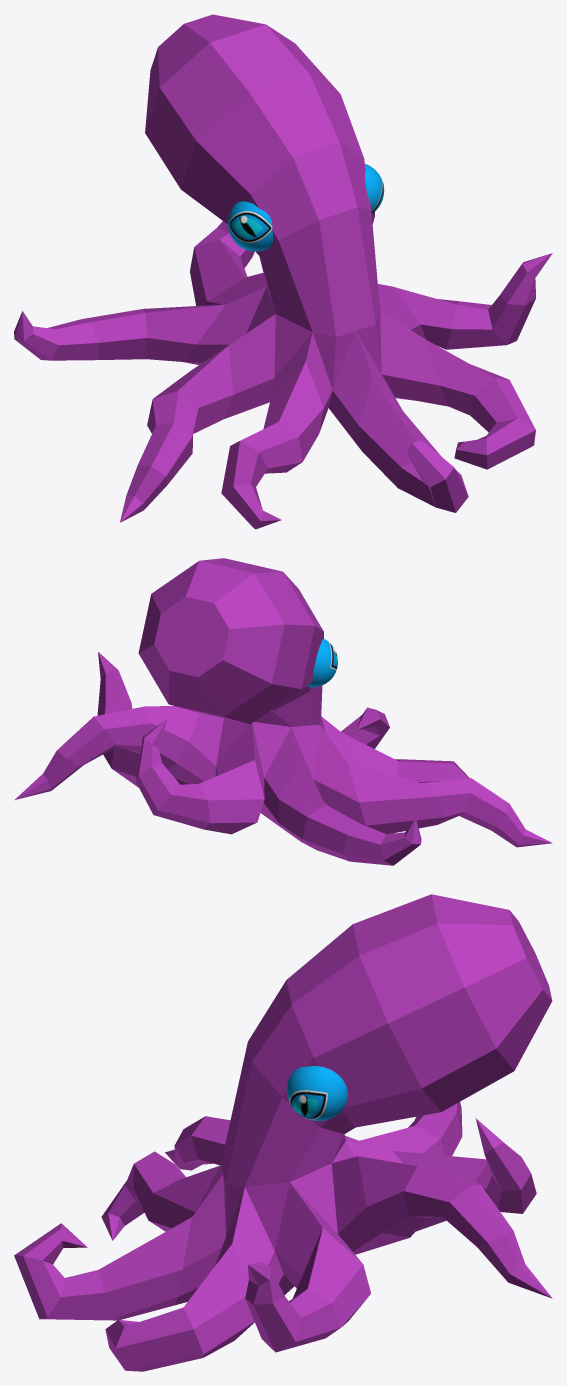
Rendered from Octopus_eyes.fbx.
3 views of the same model, one above another, from view 1: azimuth 30°, elevation 25°; view 2: azimuth 150°, elevation 25°; view 3: azimuth 270°, elevation 25° (orthographic). The views are drawn at different scales.
Visible parts, largest first — view 1: node_id3, node_id41, node_id33; view 2: node_id3, node_id41; view 3: node_id3, node_id33.
Part boxes in pixels (x1=…): node_id3: x1=14, y1=14, x2=552, y2=529; node_id41: x1=227, y1=201, x2=273, y2=251; node_id33: x1=365, y1=164, x2=384, y2=213; node_id3: x1=14, y1=558, x2=552, y2=865; node_id41: x1=307, y1=638, x2=337, y2=687; node_id3: x1=14, y1=894, x2=552, y2=1371; node_id33: x1=286, y1=1066, x2=347, y2=1120.
Size of the model in its own units: 0.3259 by 0.2387 by 0.295.
2 materials, 2 textured.
